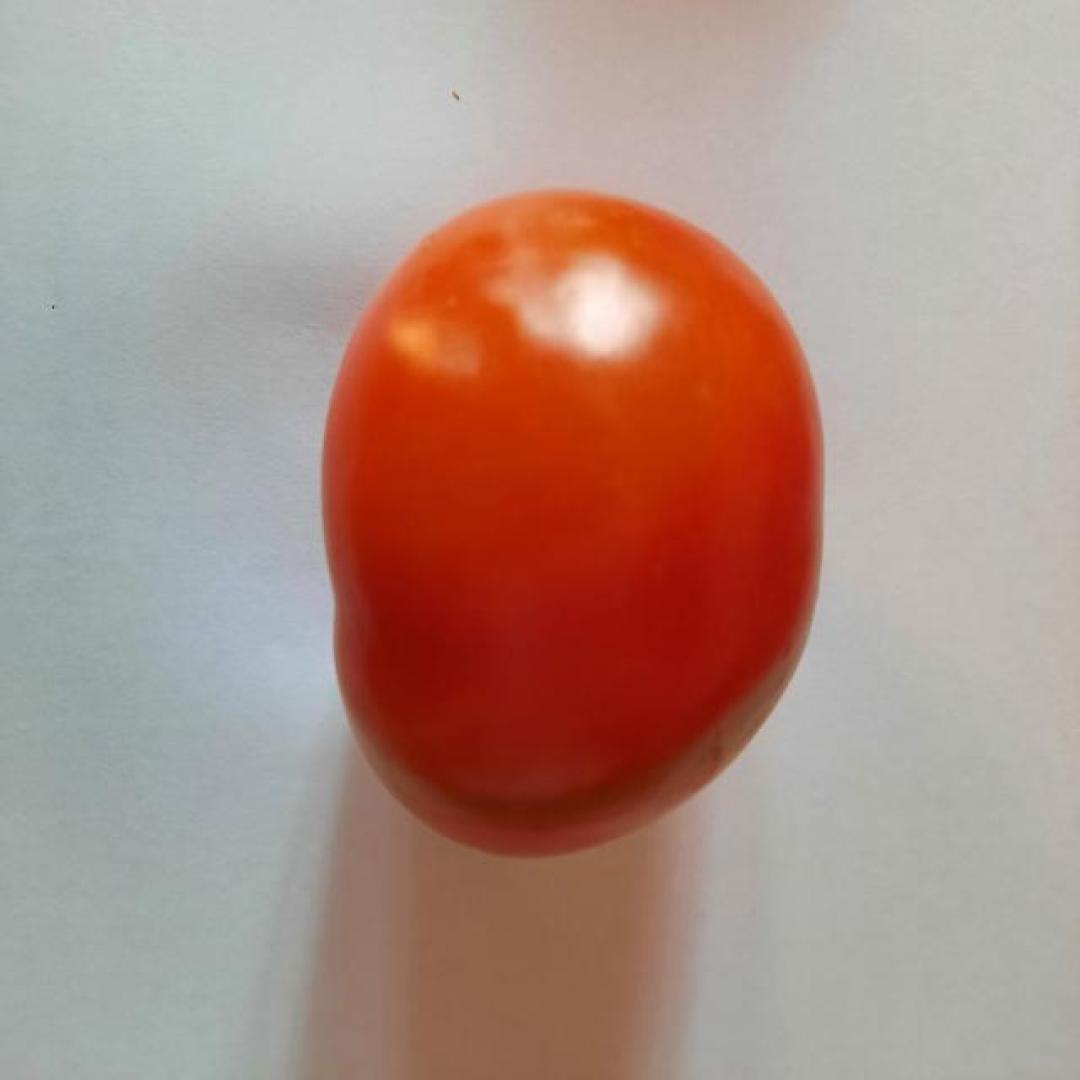matang: (317, 186, 827, 860)
